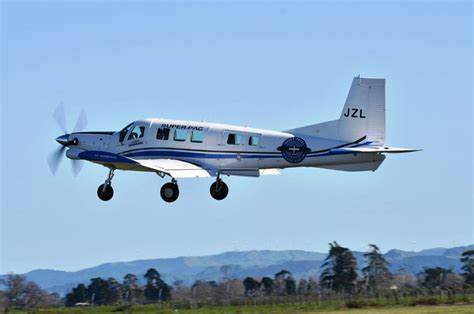Aeronef_commercial: (40, 71, 429, 211)
